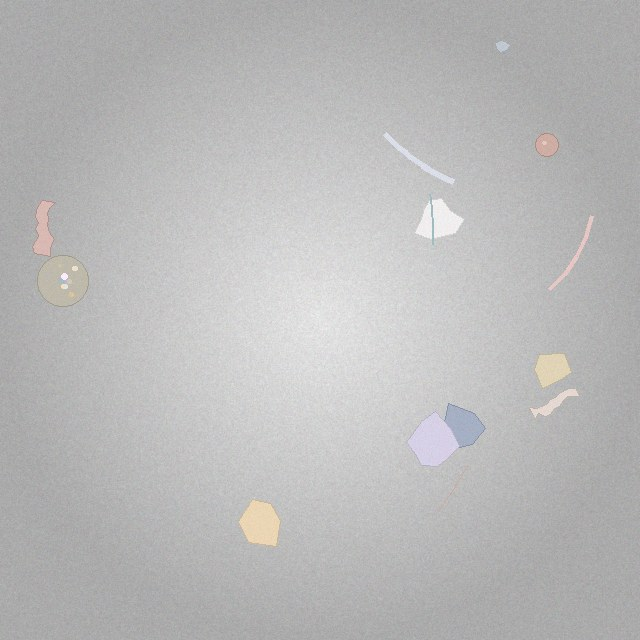fiber: (378, 127, 459, 187), (545, 212, 595, 294), (438, 465, 470, 512), (427, 192, 436, 247)
film: (530, 388, 579, 420), (33, 200, 56, 257)
foam: (38, 255, 88, 306)
fragment: (407, 412, 459, 467), (238, 500, 281, 547), (415, 198, 464, 239), (443, 403, 485, 450), (534, 354, 572, 388), (495, 40, 510, 53)
pellet: (536, 134, 558, 156)
